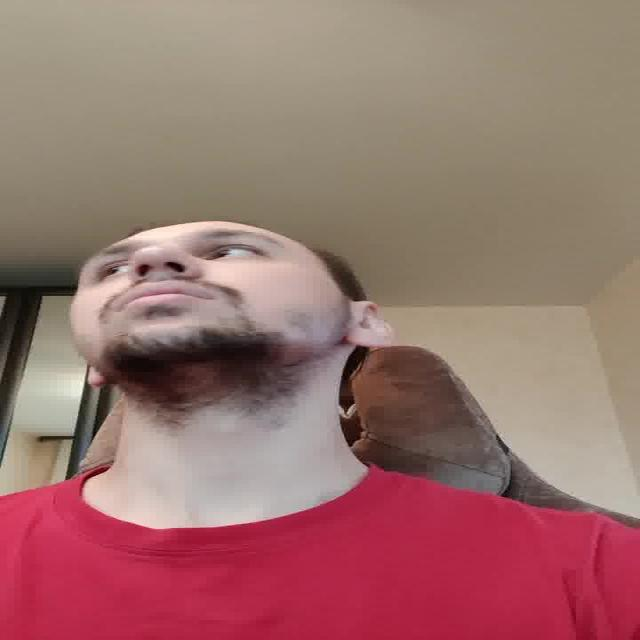earlobe: (349, 334, 396, 350), (85, 370, 110, 388)
eye: (202, 247, 264, 262), (96, 263, 126, 278)
nose: (129, 267, 197, 285)
wholeear: (344, 299, 394, 349)
